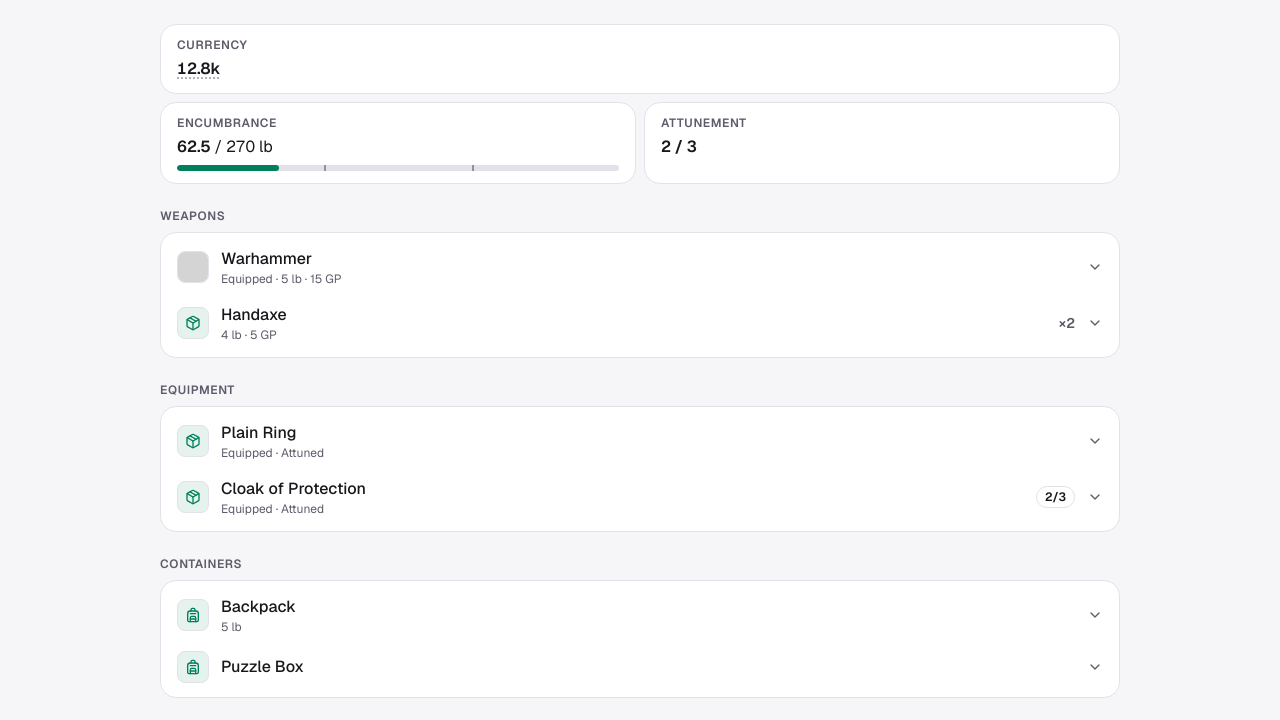
Scenario: components/character-sheet/inventory-tab › a shortened amount of coin › is named for its amount alone, for a coin with no abbreviation
The width and height of the screenshot is (1280, 720).
Click the button named "12.8k, exact amount": (199, 69) [177,57,221,81]
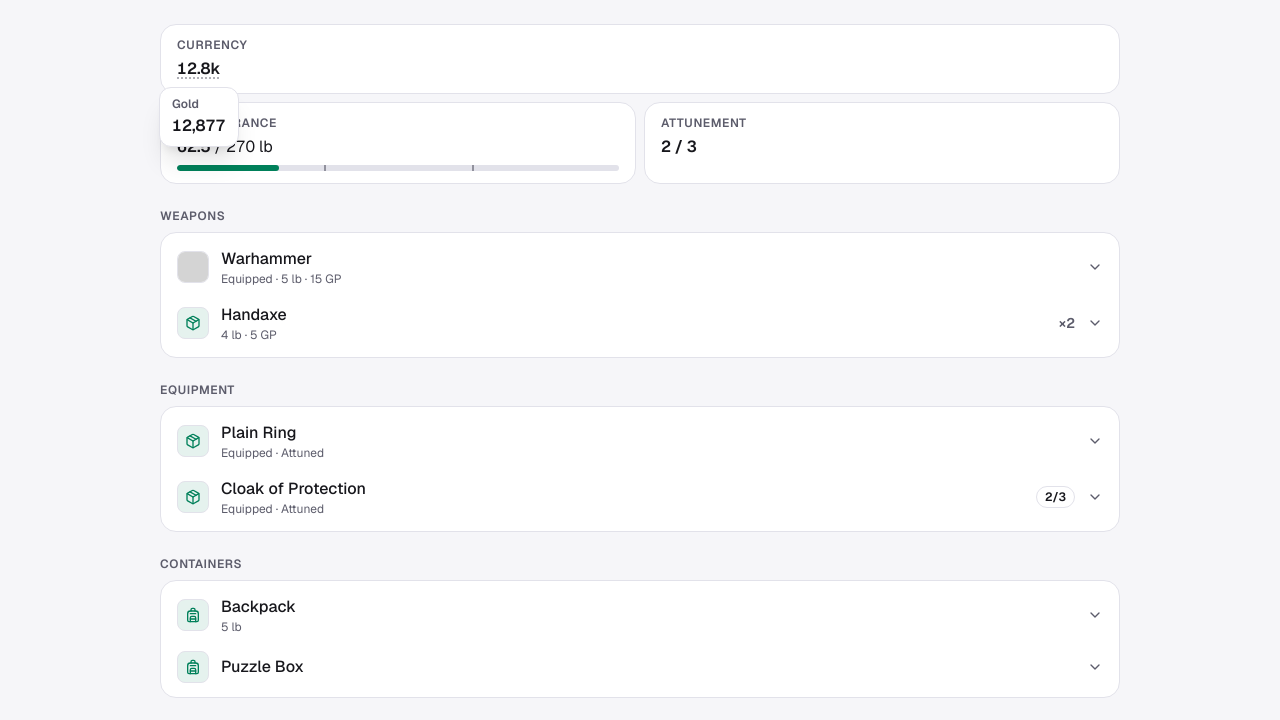
Result: the dialog "12,877" reads "Gold 12,877" at [159,87,238,147]
